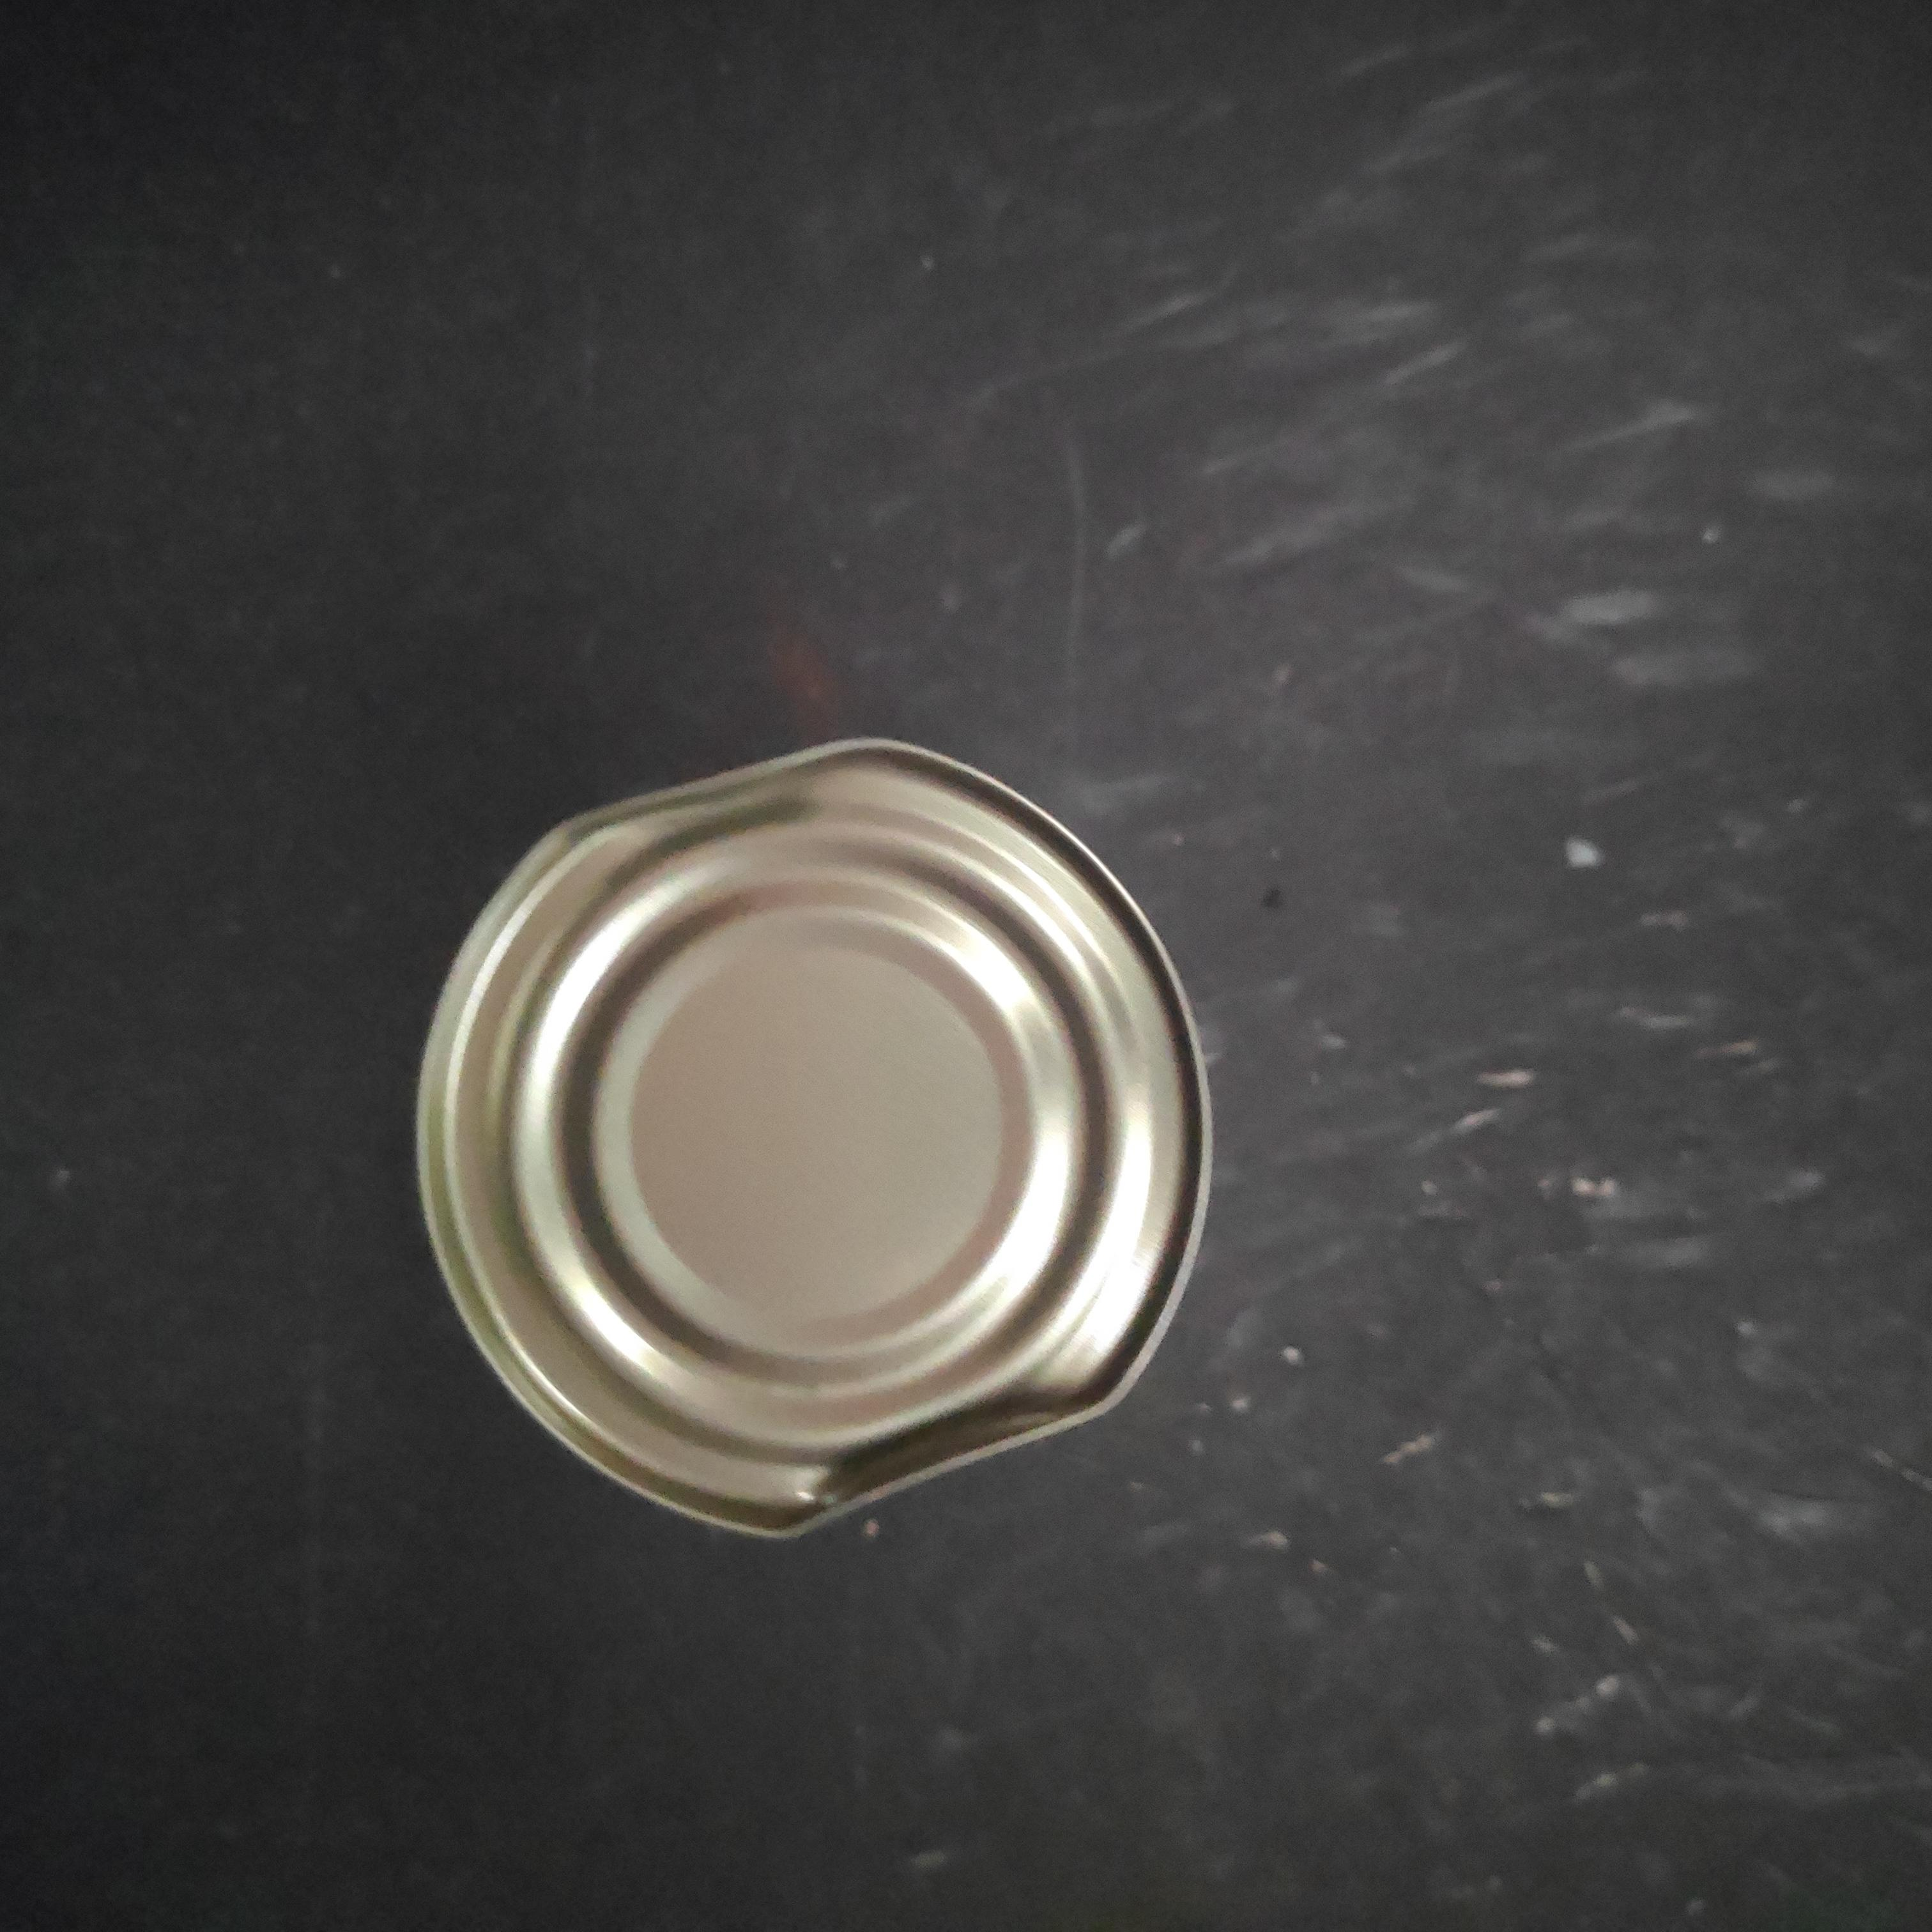Minor Defect: (403, 722, 1233, 1564)
